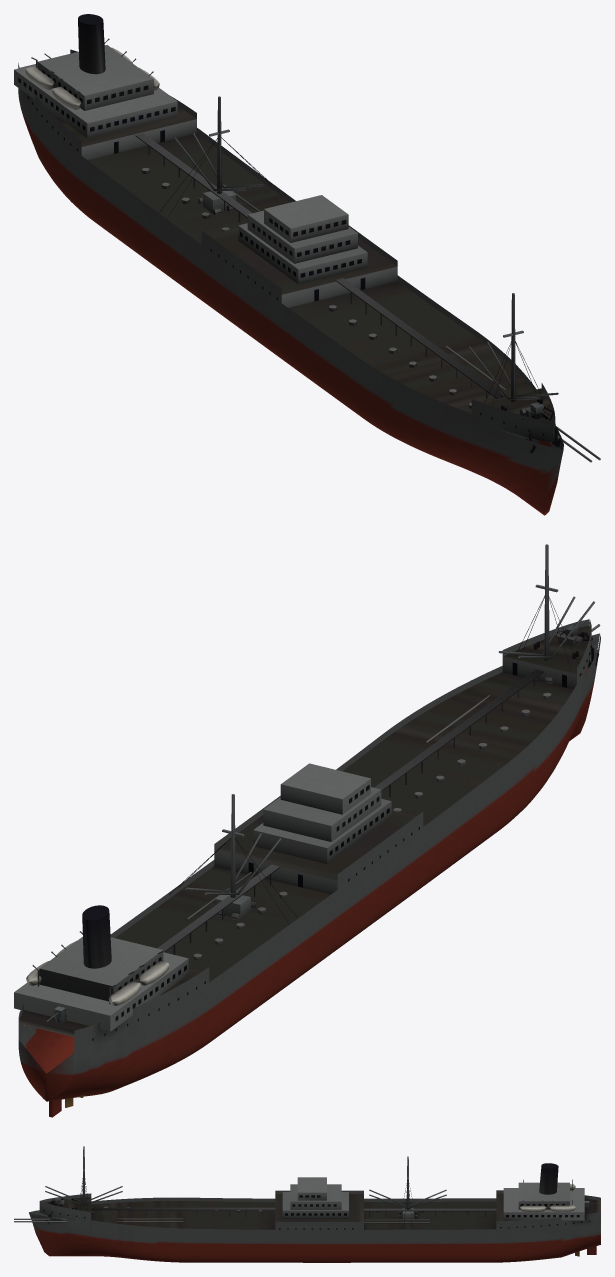
Rendered from model_built.glb.
3 views of the same model, one above another, from view 1: azimuth 30°, elevation 25°; view 2: azimuth 150°, elevation 25°; view 3: azimuth 270°, elevation 25° (orthographic). The views are drawn at different scales.
Visible parts, largest first — view 1: main; view 2: main; view 3: main.
Part boxes in pixels (<box>): main: <box>14,14,600,515</box>; main: <box>14,544,600,1117</box>; main: <box>14,1146,600,1262</box>.
Size of the model in its own units: 20.12 by 32.94 by 159.
1 material, 1 textured.
